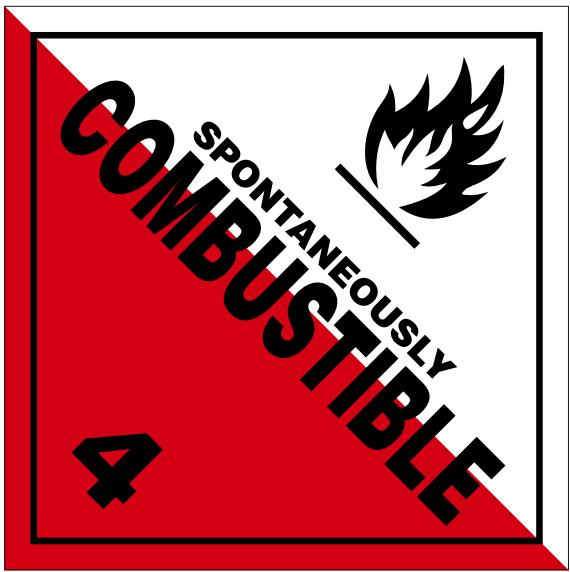spontaneously-combustible: (1, 1, 570, 572)
